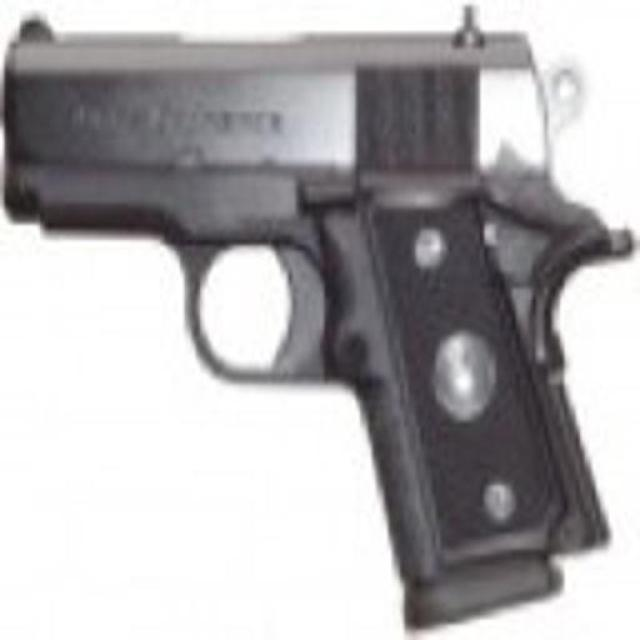pistol: (4, 5, 620, 629)
